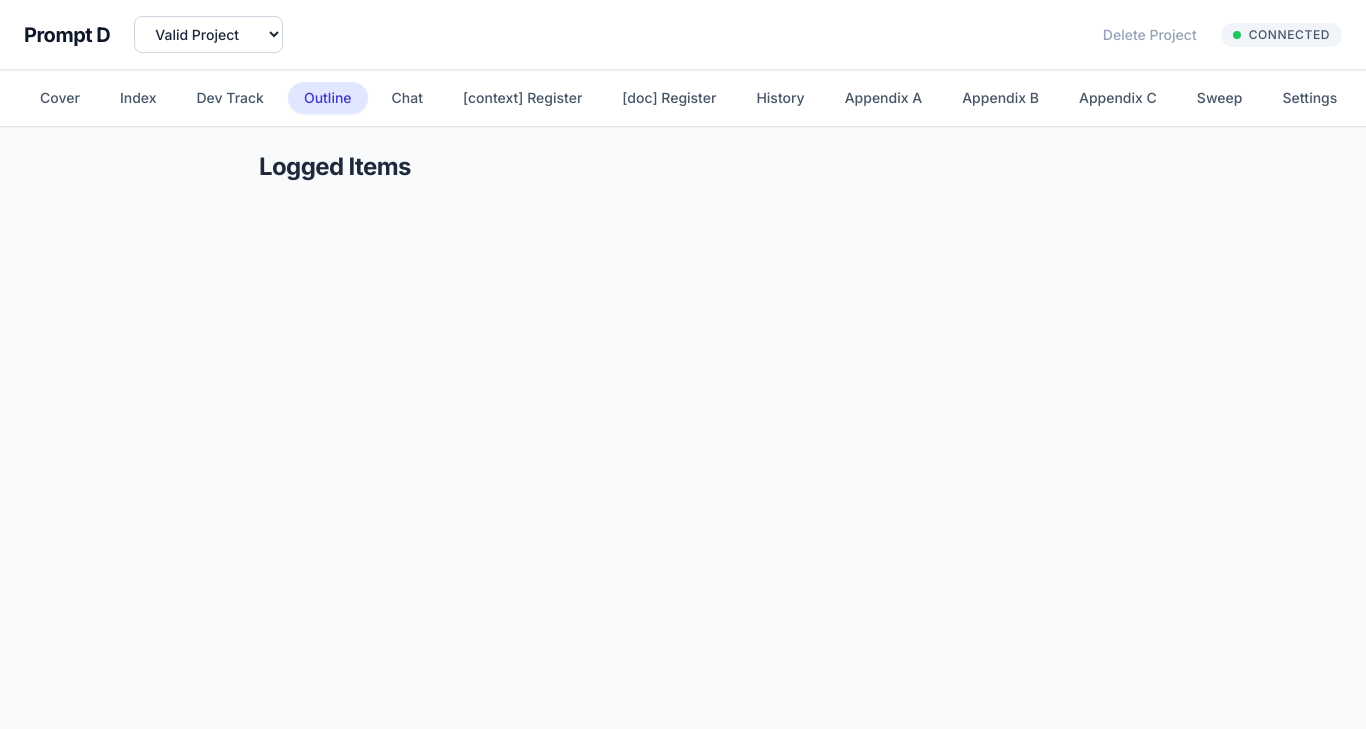
Test case: App Load Scenarios › renders Settings tab and passes down project state
The width and height of the screenshot is (1366, 729).
Click the button "Settings". click: {"x": 1310, "y": 98}
box: [1266,82,1353,114]
(page scrolled)
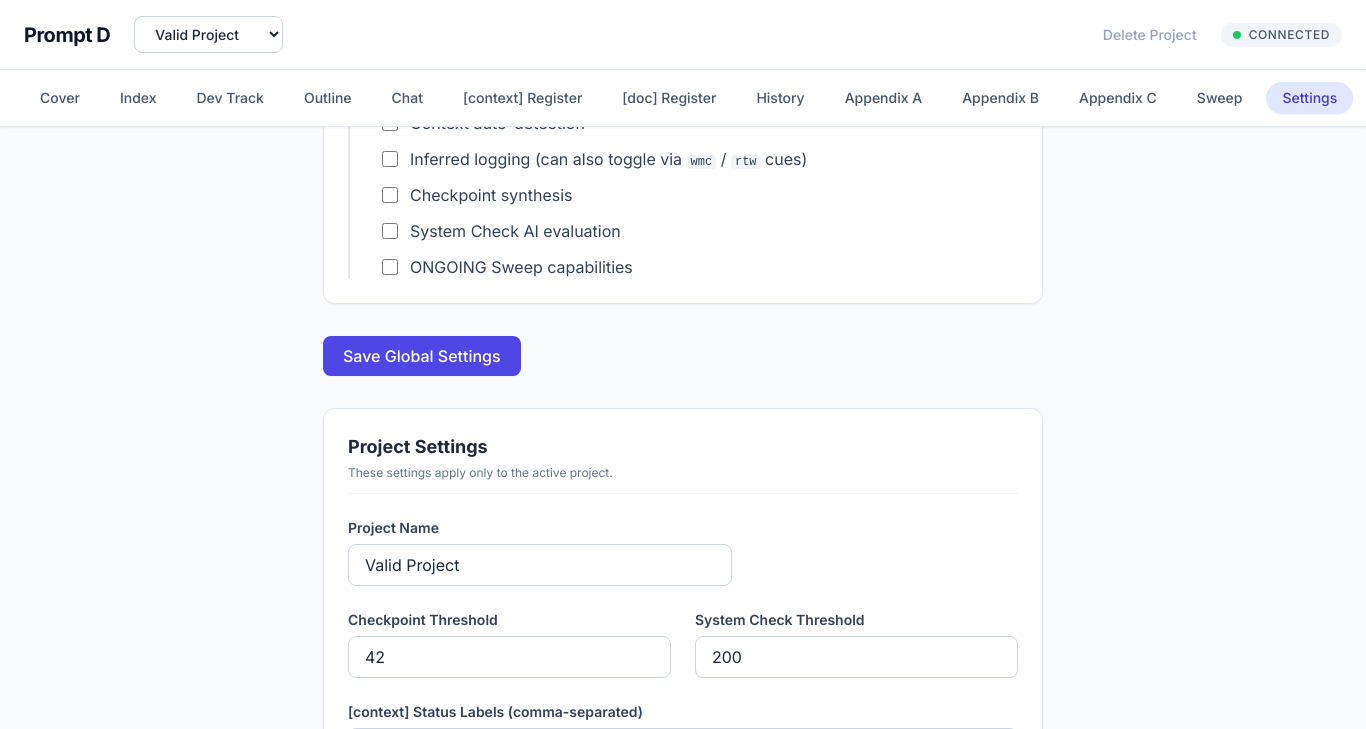
Result: the heading "Project Settings" is shown at [348,436,488,457]
